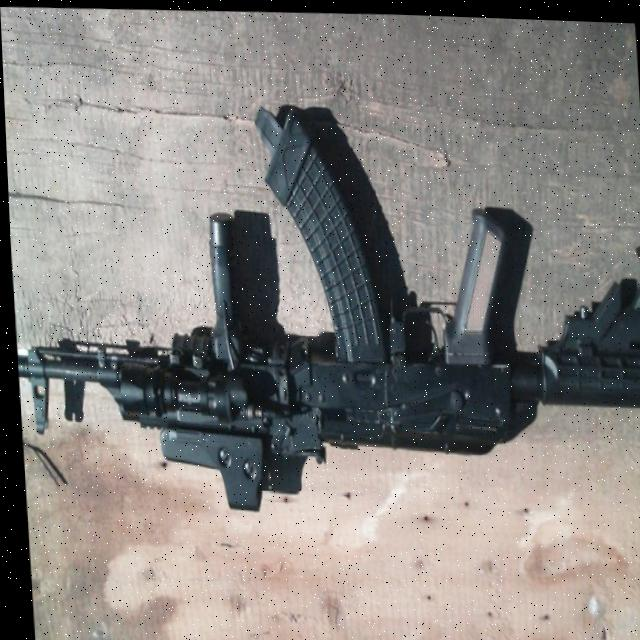firearm: (3, 90, 640, 525)
